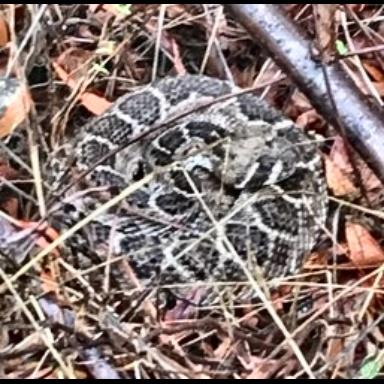snake: (53, 83, 322, 318)
